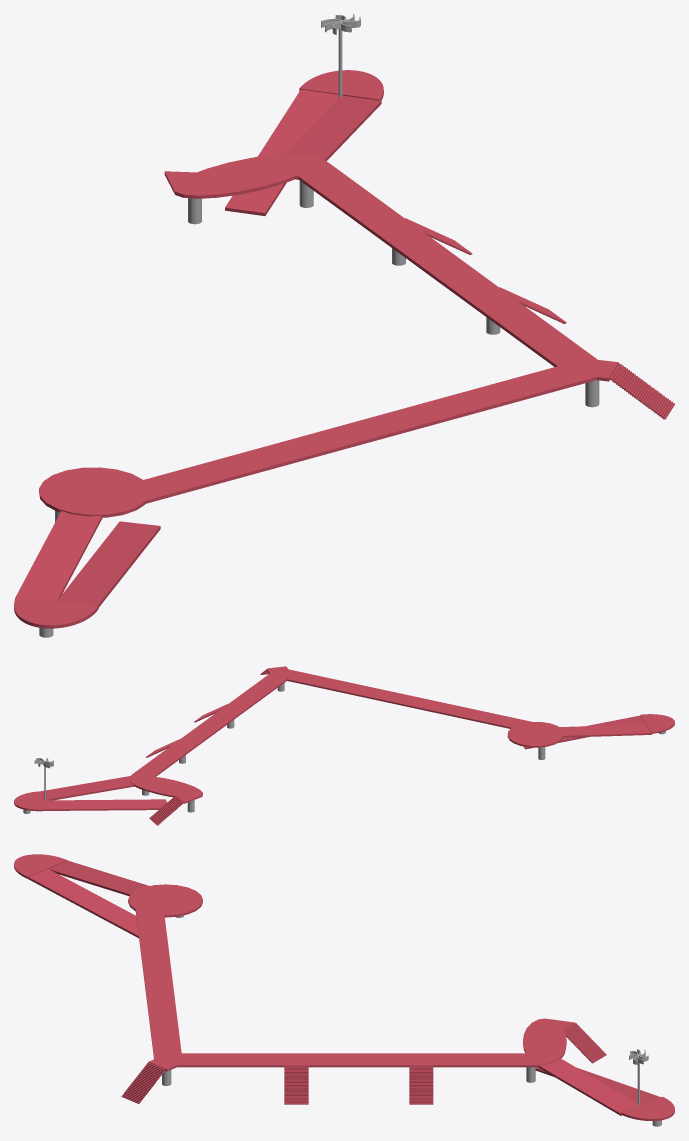
The model's file is bridge.glb.
3 views of the same model, one above another, from view 1: azimuth 30°, elevation 25°; view 2: azimuth 150°, elevation 25°; view 3: azimuth 270°, elevation 25° (orthographic). The views are drawn at different scales.
Parts seen in each view (by area): view 1: Mesh_Mesh_head_geo.001_lambert2SG.001; view 2: Mesh_Mesh_head_geo.001_lambert2SG.001; view 3: Mesh_Mesh_head_geo.001_lambert2SG.001.
Part boxes in pixels (<box>): Mesh_Mesh_head_geo.001_lambert2SG.001: <box>14,14,674,637</box>; Mesh_Mesh_head_geo.001_lambert2SG.001: <box>14,666,674,825</box>; Mesh_Mesh_head_geo.001_lambert2SG.001: <box>14,854,674,1126</box>.
Size of the model in its own units: 670 by 76.87 by 707.
